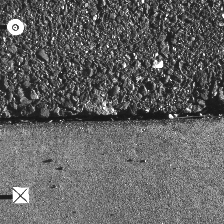circle: (7, 19, 24, 35)
crack: (1, 108, 224, 126)
square: (12, 188, 29, 204)
